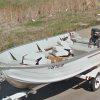Boat: (3, 45, 97, 97)
